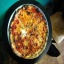pizza: (7, 3, 49, 60)
